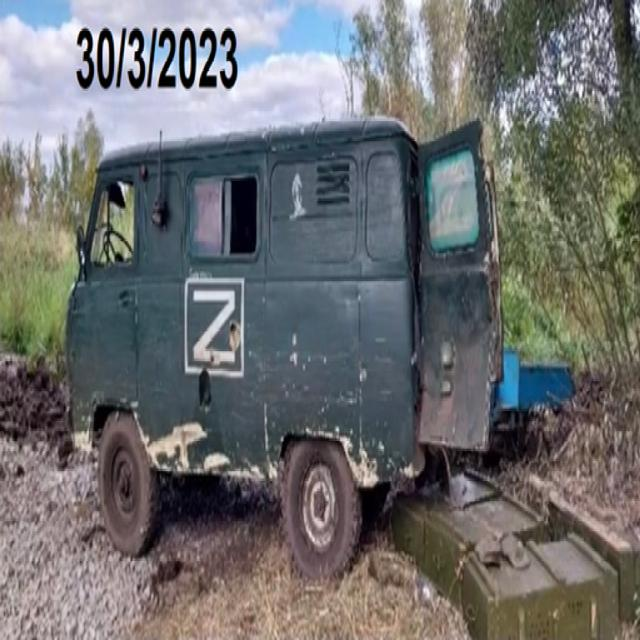CAR: (59, 107, 508, 571)
